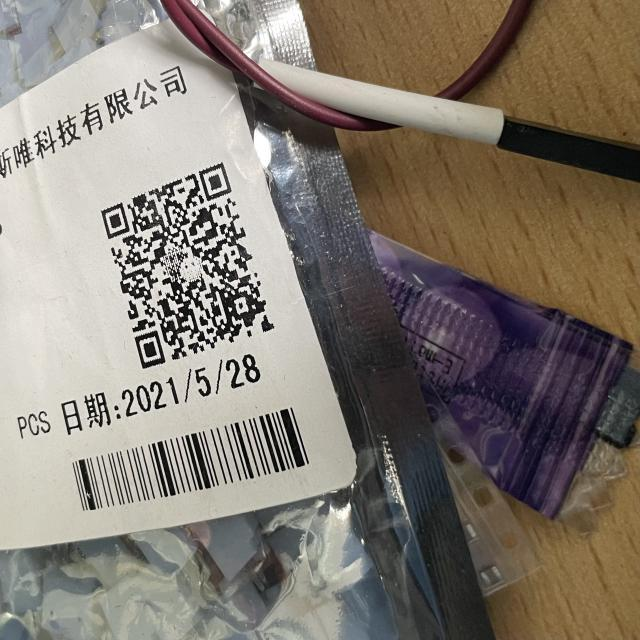qr_code: (100, 161, 275, 370)
